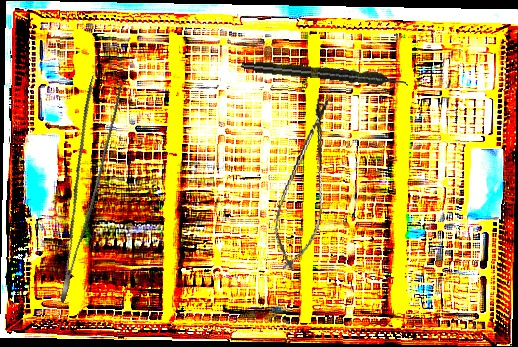Handpiece: (240, 58, 410, 90)
Micro Scissor: (266, 93, 344, 275)
Tissue Forceps: (22, 73, 135, 304)
